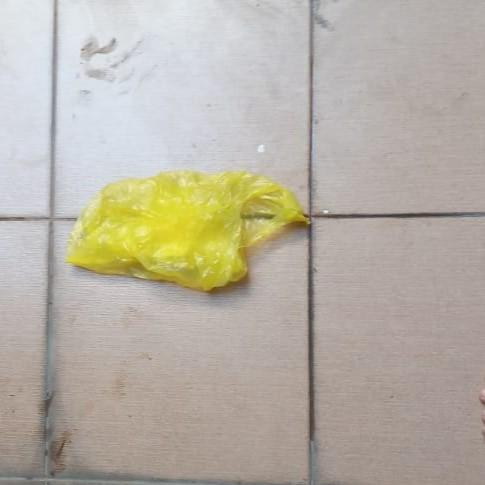Plastik: (65, 170, 313, 293)
